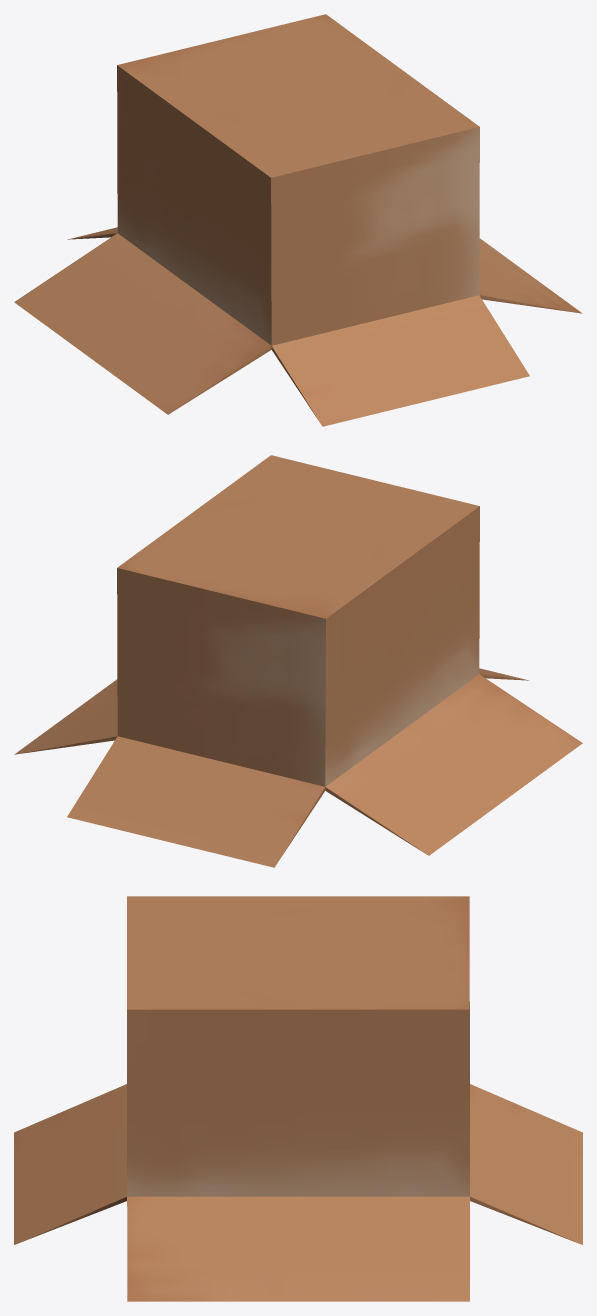
Rendered from UpsidedownCardboardBox 1.fbx.
3 renders of one model, top to bottom at view 1: azimuth 30°, elevation 25°; view 2: azimuth 150°, elevation 25°; view 3: azimuth 270°, elevation 25°, orthographic. The views are drawn at different scales.
Parts seen in each view (by area): view 1: Cardboard_Box; view 2: Cardboard_Box; view 3: Cardboard_Box.
Boxes of the visible parts, x1,y1,x2,y2 form: Cardboard_Box: [14, 14, 582, 426]; Cardboard_Box: [14, 455, 582, 867]; Cardboard_Box: [14, 896, 582, 1301].
Size of the model in its own units: 89.8 by 43.83 by 95.85.
